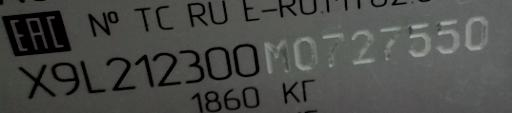letter: (18, 61, 58, 99), (105, 53, 137, 92), (434, 15, 462, 58), (151, 51, 183, 88), (404, 20, 434, 59), (262, 37, 292, 76), (50, 61, 80, 100), (79, 57, 109, 95), (176, 47, 206, 84), (463, 14, 491, 53), (348, 28, 376, 67), (318, 30, 346, 69), (203, 45, 233, 80), (292, 33, 320, 70), (231, 42, 259, 79), (376, 24, 402, 63), (132, 51, 154, 90)
